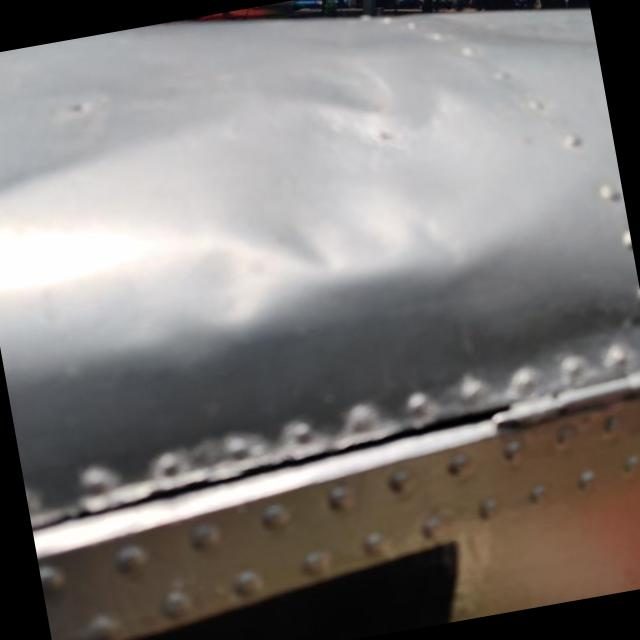Dent: (218, 157, 401, 321)
